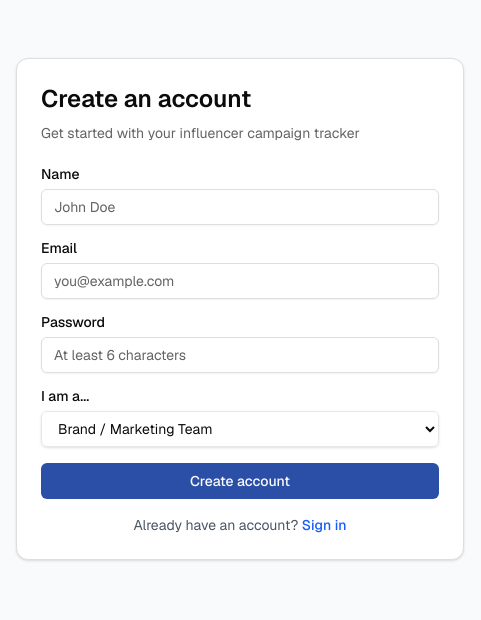
it: RegisterPage › validates password length
Type "12345" into the password field labelled "Password" at point(240, 355), box [41,337,439,373]
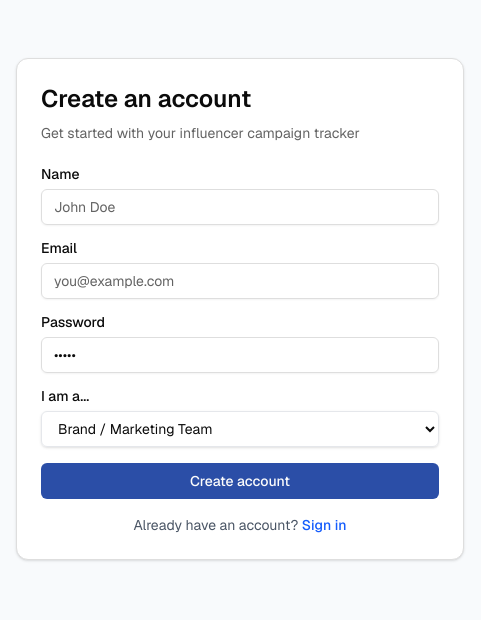
Click the button "Create account" at point(240, 481), box [41,463,439,499]
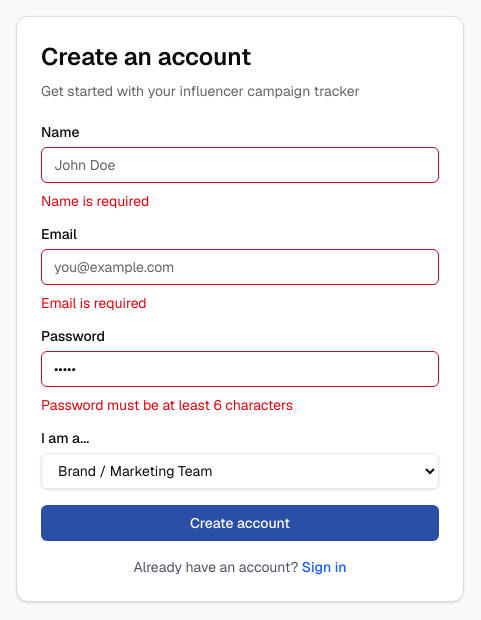
Check: the text "Password must be at least 6 characters" is shown, box [41,396,293,414]
